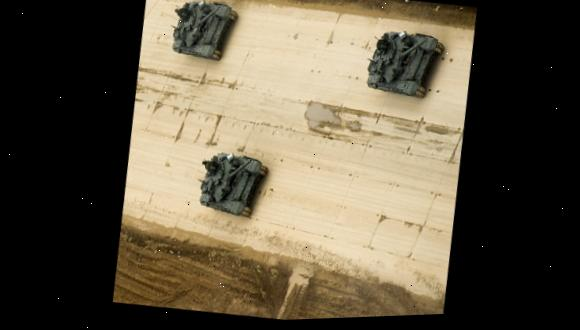tank: (363, 21, 449, 103), (192, 144, 277, 225), (164, 0, 244, 65)
